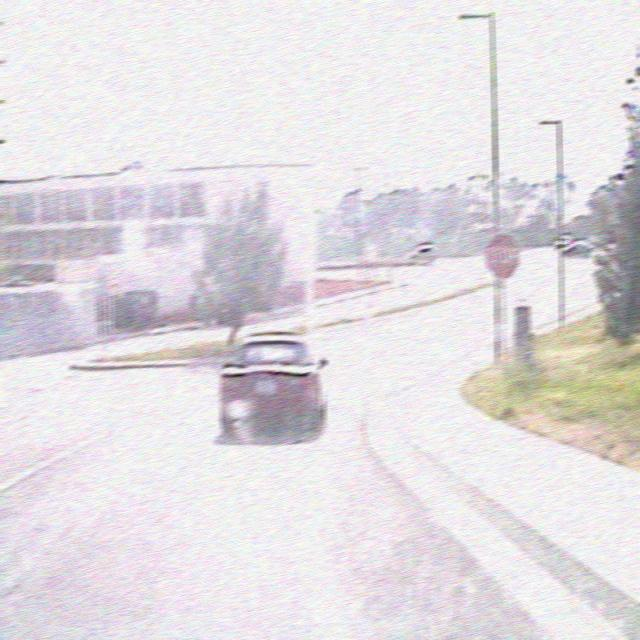stop: (484, 230, 520, 278)
